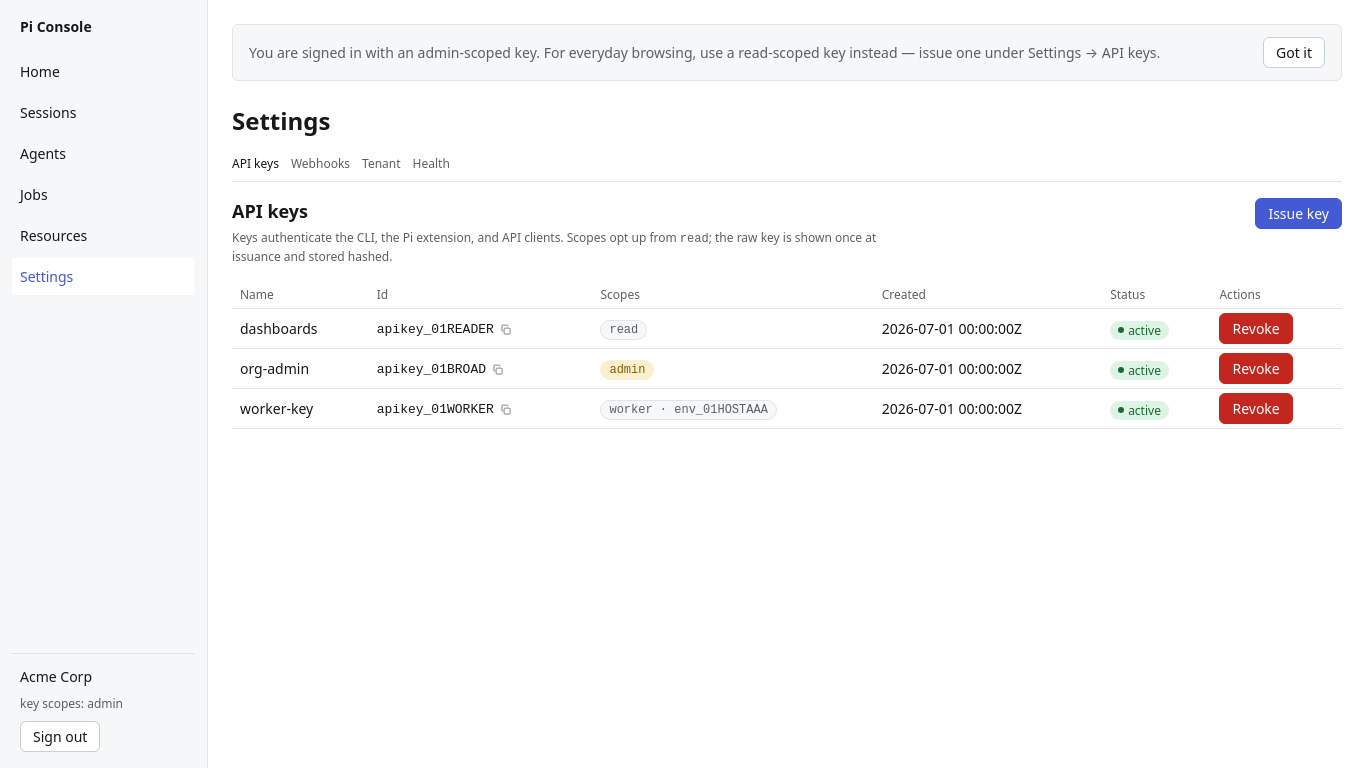
it: issue flow (§9.7: opt-up scopes, show-once secret) › scopes opt UP from [read]: read pre-checked, write/admin unchecked
Expected: the table named "API keys" is shown, [232,282,1342,429]
Click the button "Issue key" at (1299, 214), box [1255,198,1342,229]
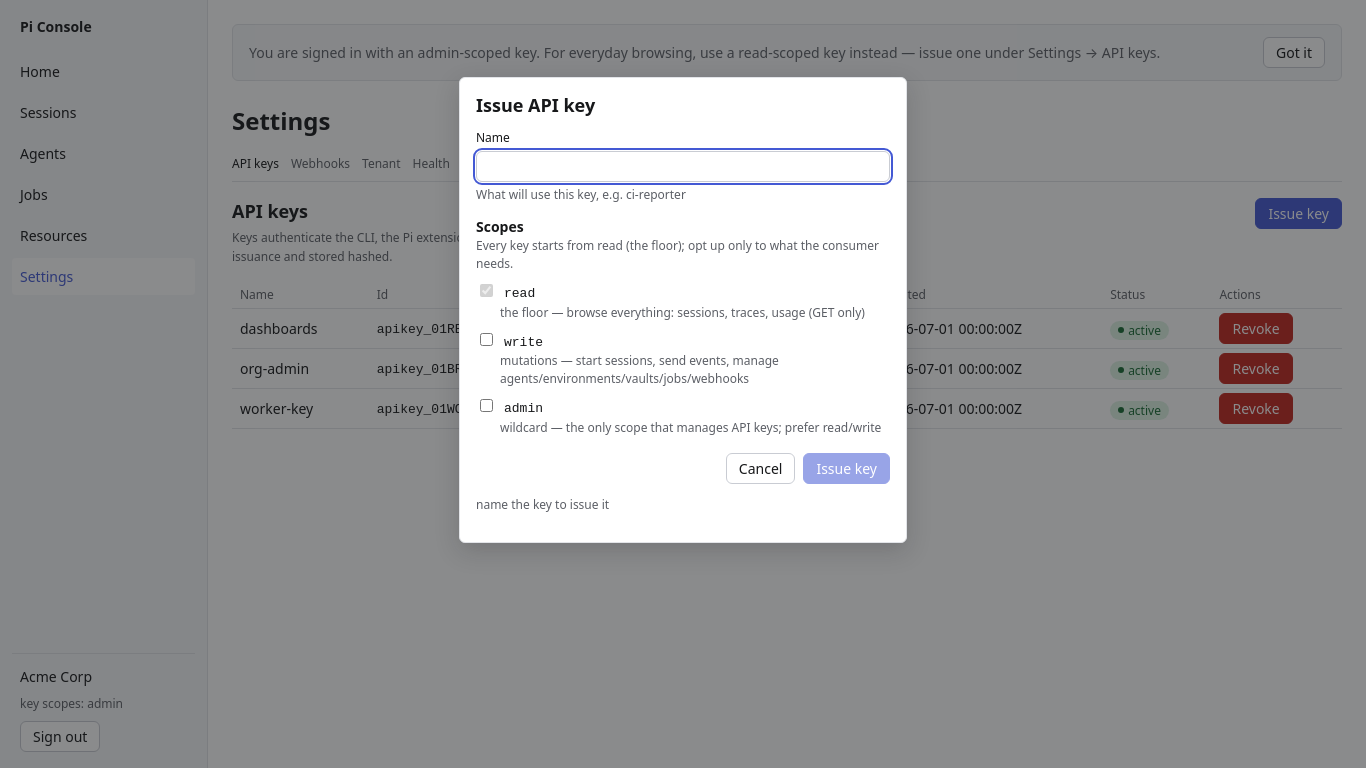
Expected: the checkbox labelled "read" is checked, [480,284,493,297]
Expected: the checkbox labelled "read" is disabled, [480,284,493,297]
Expected: the checkbox labelled "write" is not checked, [480,333,493,346]
